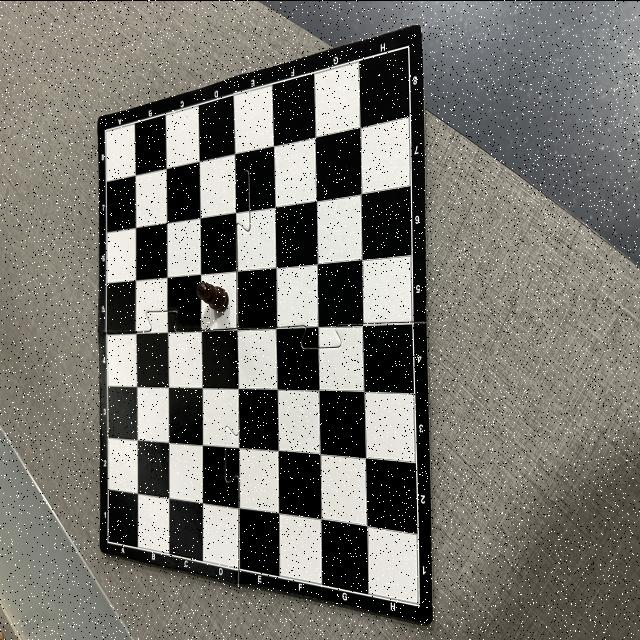Black-Pawn: (196, 280, 228, 310)
